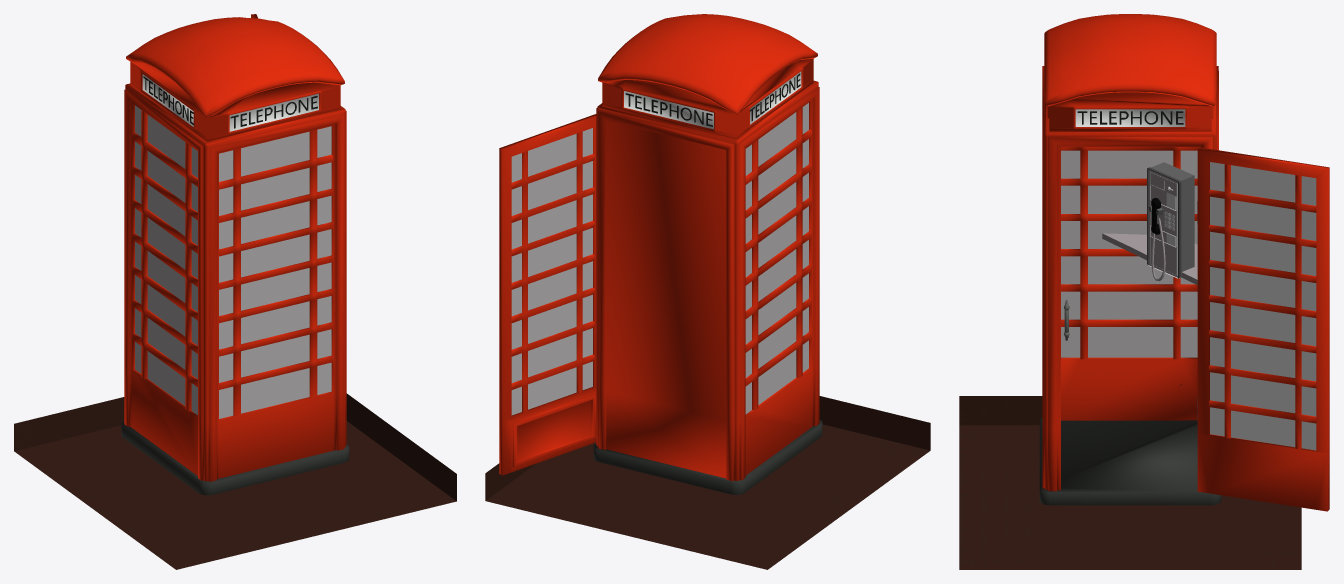
The model's file is Payphone.glb.
3 renders of one model, left to right at view 1: azimuth 30°, elevation 25°; view 2: azimuth 150°, elevation 25°; view 3: azimuth 270°, elevation 25°, orthographic. The views are drawn at different scales.
Visible parts, largest first — view 1: PayPhoneBooth, Plane, PayPhone; view 2: PayPhoneBooth, Plane, PayPhone; view 3: PayPhoneBooth, Plane, PayPhone.
Boxes of the visible parts, x1=… form: PayPhoneBooth: x1=124, y1=14, x2=346, y2=481; Plane: x1=14, y1=393, x2=456, y2=569; PayPhone: x1=121, y1=74, x2=349, y2=495; PayPhoneBooth: x1=499, y1=14, x2=819, y2=481; Plane: x1=485, y1=396, x2=930, y2=569; PayPhone: x1=593, y1=71, x2=822, y2=494; PayPhoneBooth: x1=1042, y1=14, x2=1329, y2=511; Plane: x1=959, y1=396, x2=1301, y2=569; PayPhone: x1=1039, y1=109, x2=1221, y2=505.
Size of the model in its own units: 4.22 by 6.35 by 4.56.
2 materials, 2 textured.
